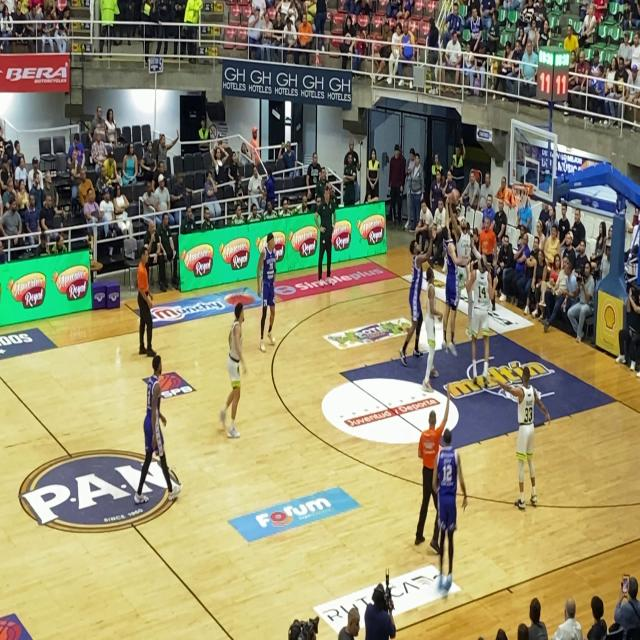Ball: (449, 186, 460, 208)
referee: (126, 242, 154, 357)
team1: (507, 359, 542, 513)
team2: (430, 420, 470, 595), (133, 344, 170, 509), (258, 220, 290, 337)
ubasket: (512, 178, 530, 214)
